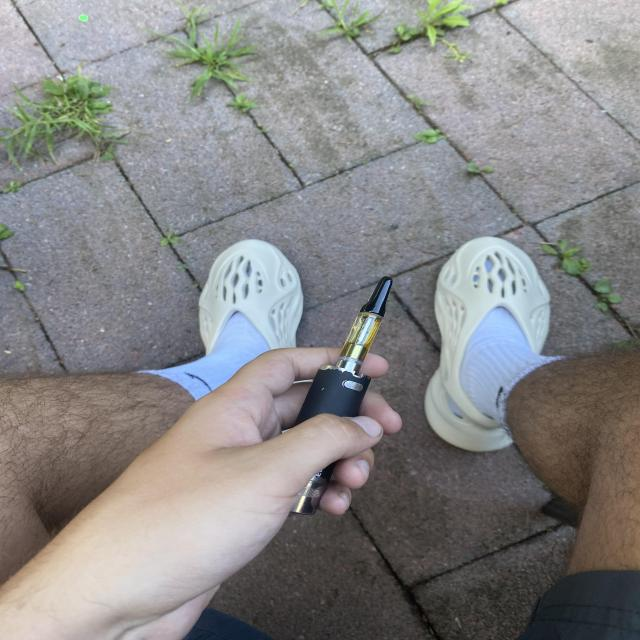shoes: (422, 234, 556, 456), (195, 237, 304, 427)
